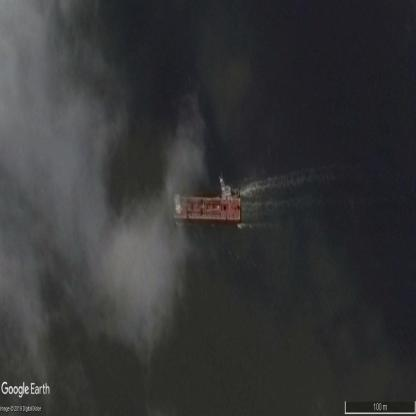ship: (173, 192, 241, 222)
